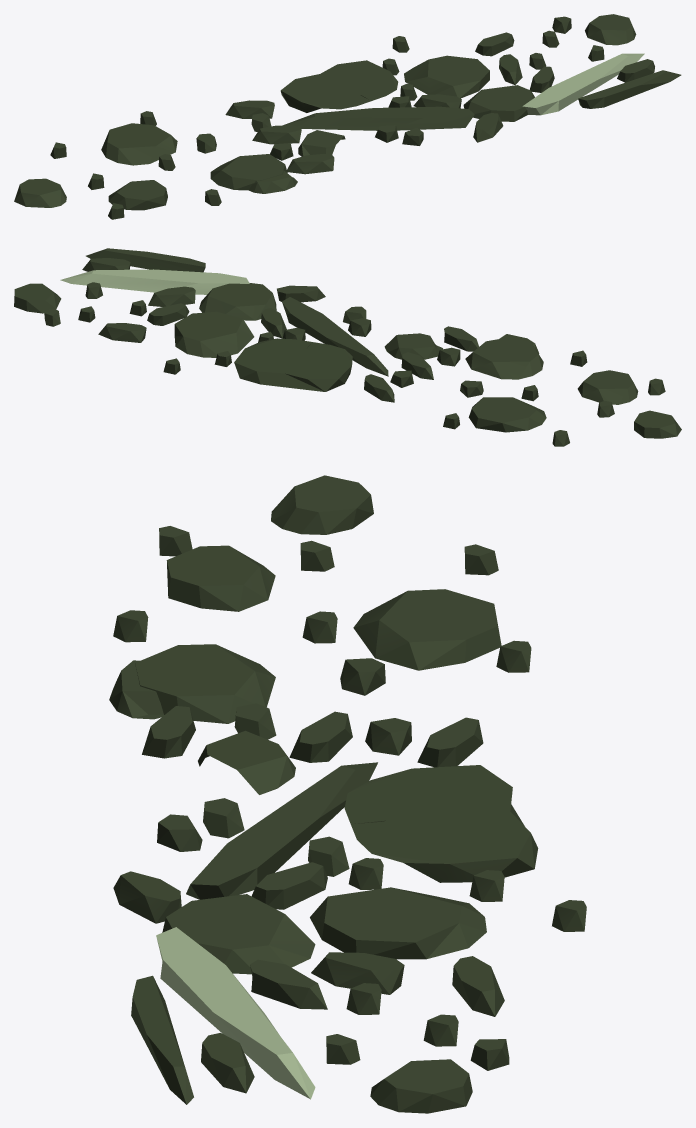
The model's file is EA_Swamp_Stones_04b.glb.
The picture shows the model from 3 angles, top to bottom: view 1: azimuth 30°, elevation 25°; view 2: azimuth 150°, elevation 25°; view 3: azimuth 270°, elevation 25°; orthographic projection. The views are drawn at different scales.
Parts seen in each view (by area): view 1: EA_Swamp_Stones_04b; view 2: EA_Swamp_Stones_04b; view 3: EA_Swamp_Stones_04b.
Part boxes in pixels (left/top/right/bottom): EA_Swamp_Stones_04b: left=14, top=14, right=681, bottom=219; EA_Swamp_Stones_04b: left=14, top=248, right=681, bottom=446; EA_Swamp_Stones_04b: left=109, top=475, right=586, bottom=1113.
Size of the model in its own units: 8.81 by 0.1394 by 2.86.
Materials: 1 (1 with a texture image).
